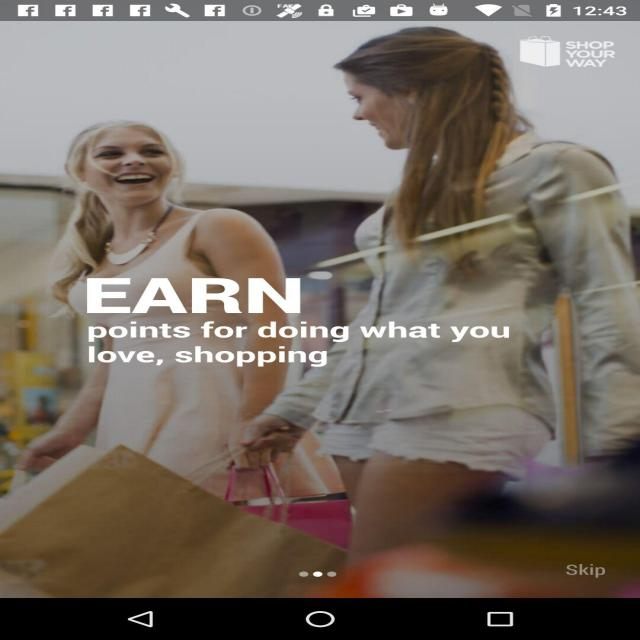button: (72, 614, 576, 638), (543, 553, 624, 589)
icon: (517, 38, 568, 70)
image: (15, 36, 634, 602), (278, 568, 356, 586)
text: (37, 253, 550, 392), (506, 31, 637, 79)
